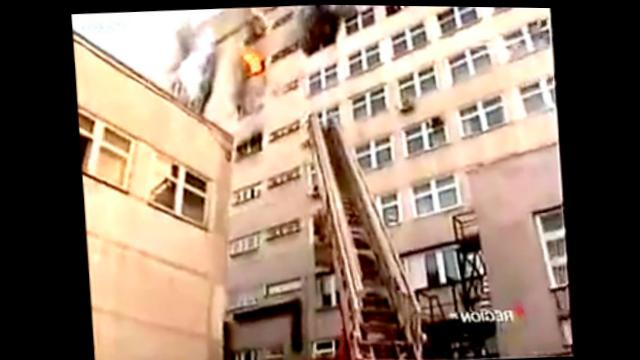fire: (244, 50, 266, 75)
